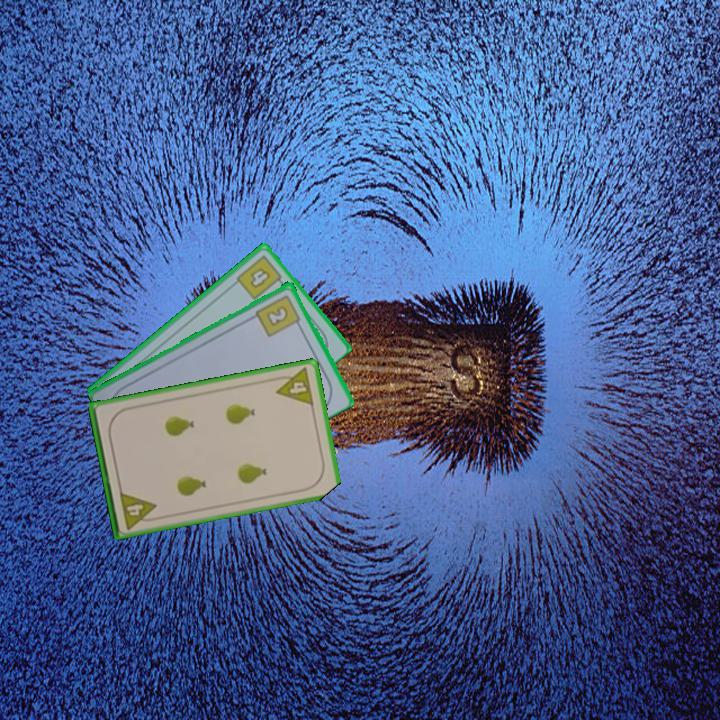2b: (252, 291, 304, 339)
4b: (233, 251, 287, 303)
4p: (270, 364, 317, 408), (116, 488, 161, 532)
